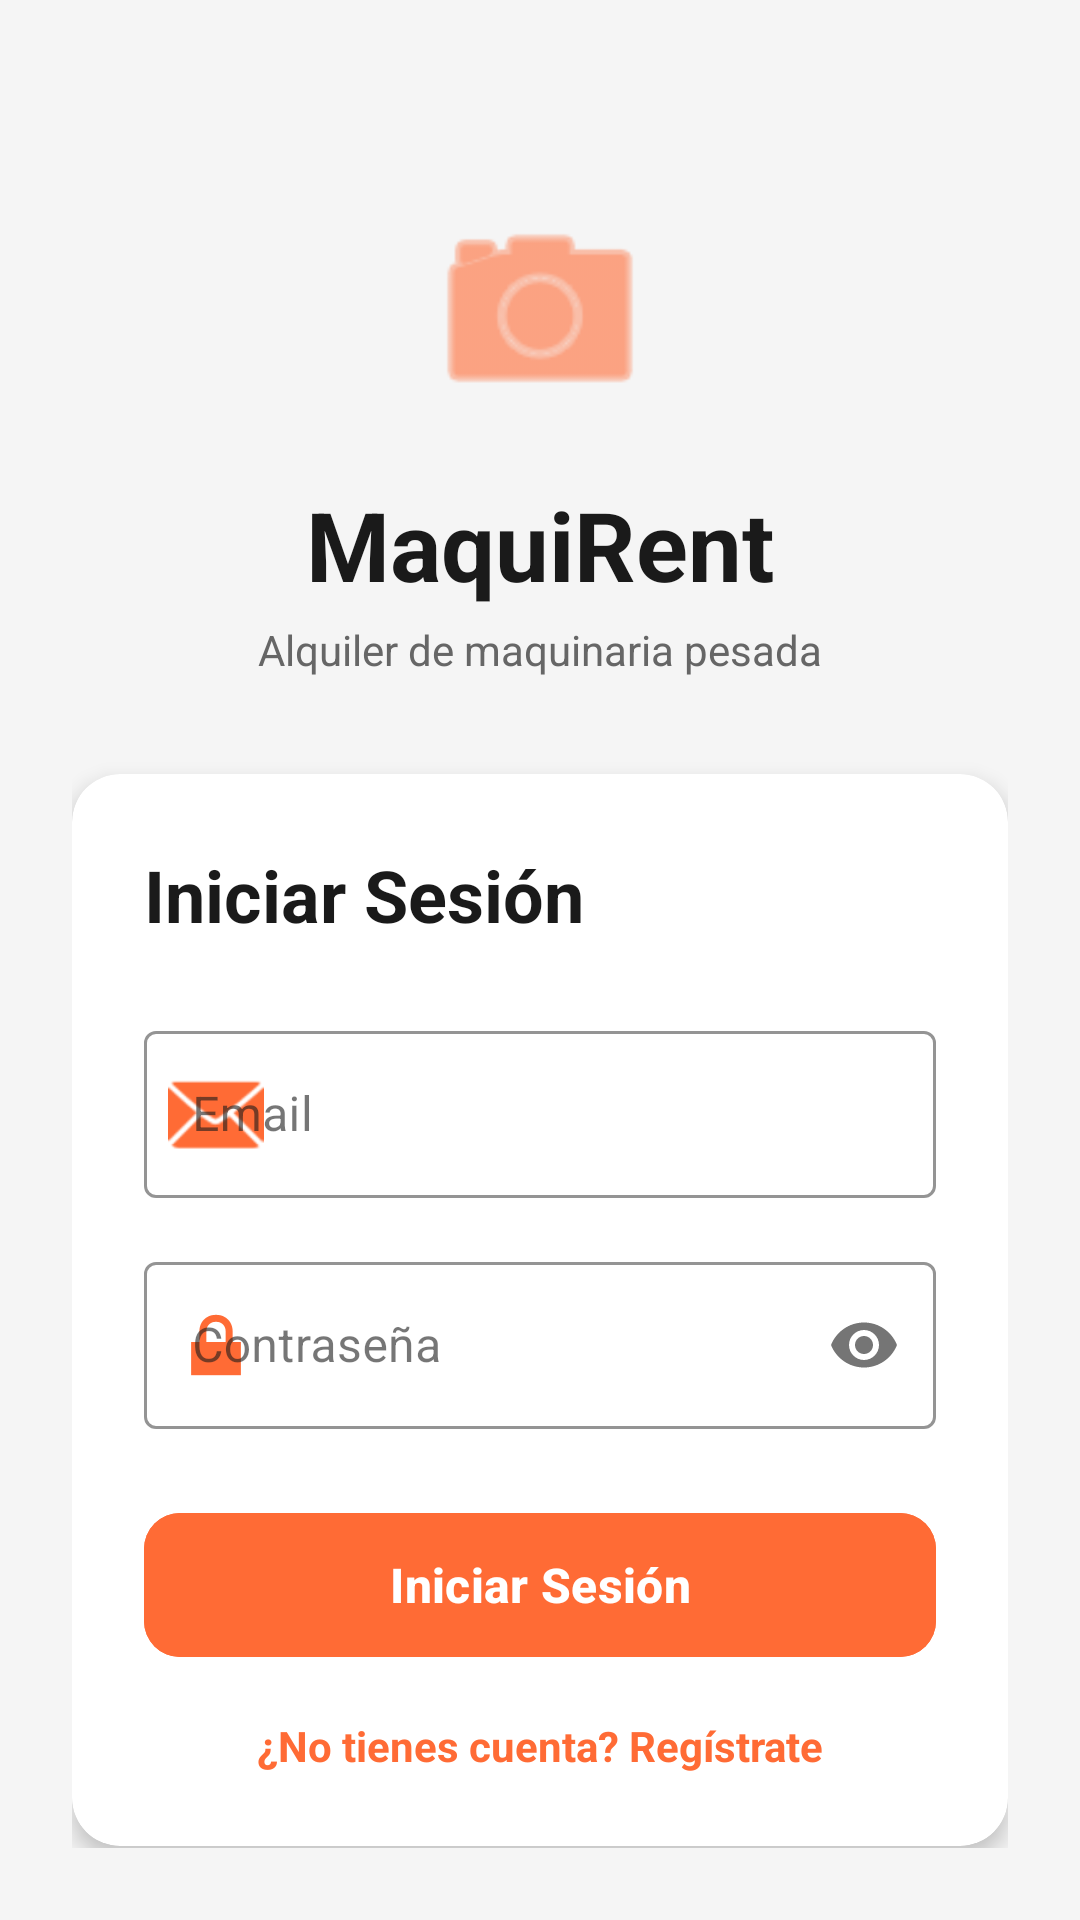

Icons on this 1080px×1920px Android screen, each with its box as {"x1": x1, "y1": y1, "x2": x2, "y2": y2}:
camera: {"x1": 447, "y1": 234, "x2": 633, "y2": 382}
